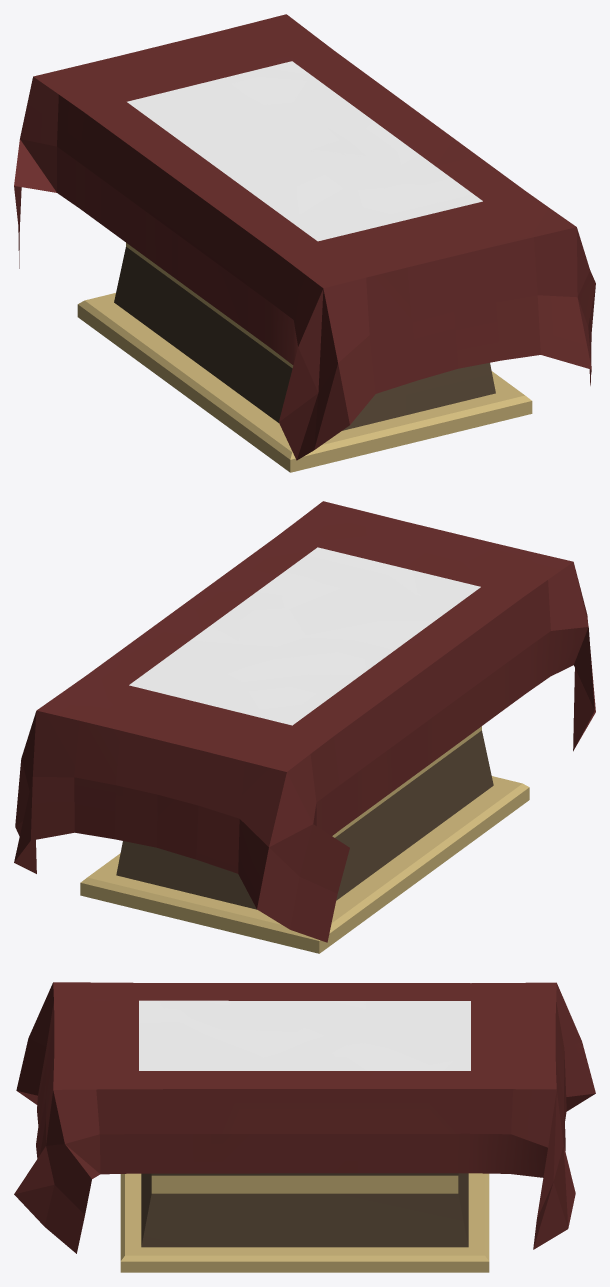
Rendered from SM_churchAltar.glb.
3 renders of one model, top to bottom at view 1: azimuth 30°, elevation 25°; view 2: azimuth 150°, elevation 25°; view 3: azimuth 270°, elevation 25°, orthographic. The views are drawn at different scales.
Visible parts, largest first — view 1: SM_churchAltar; view 2: SM_churchAltar; view 3: SM_churchAltar.
Boxes of the visible parts, x1,y1,x2,y2 form: SM_churchAltar: (14,14,595,472); SM_churchAltar: (14,501,595,953); SM_churchAltar: (14,982,595,1272).
Bounding box in the file's own units: 1.38 × 0.8422 × 2.39.
Materials: 1 (1 with a texture image).
